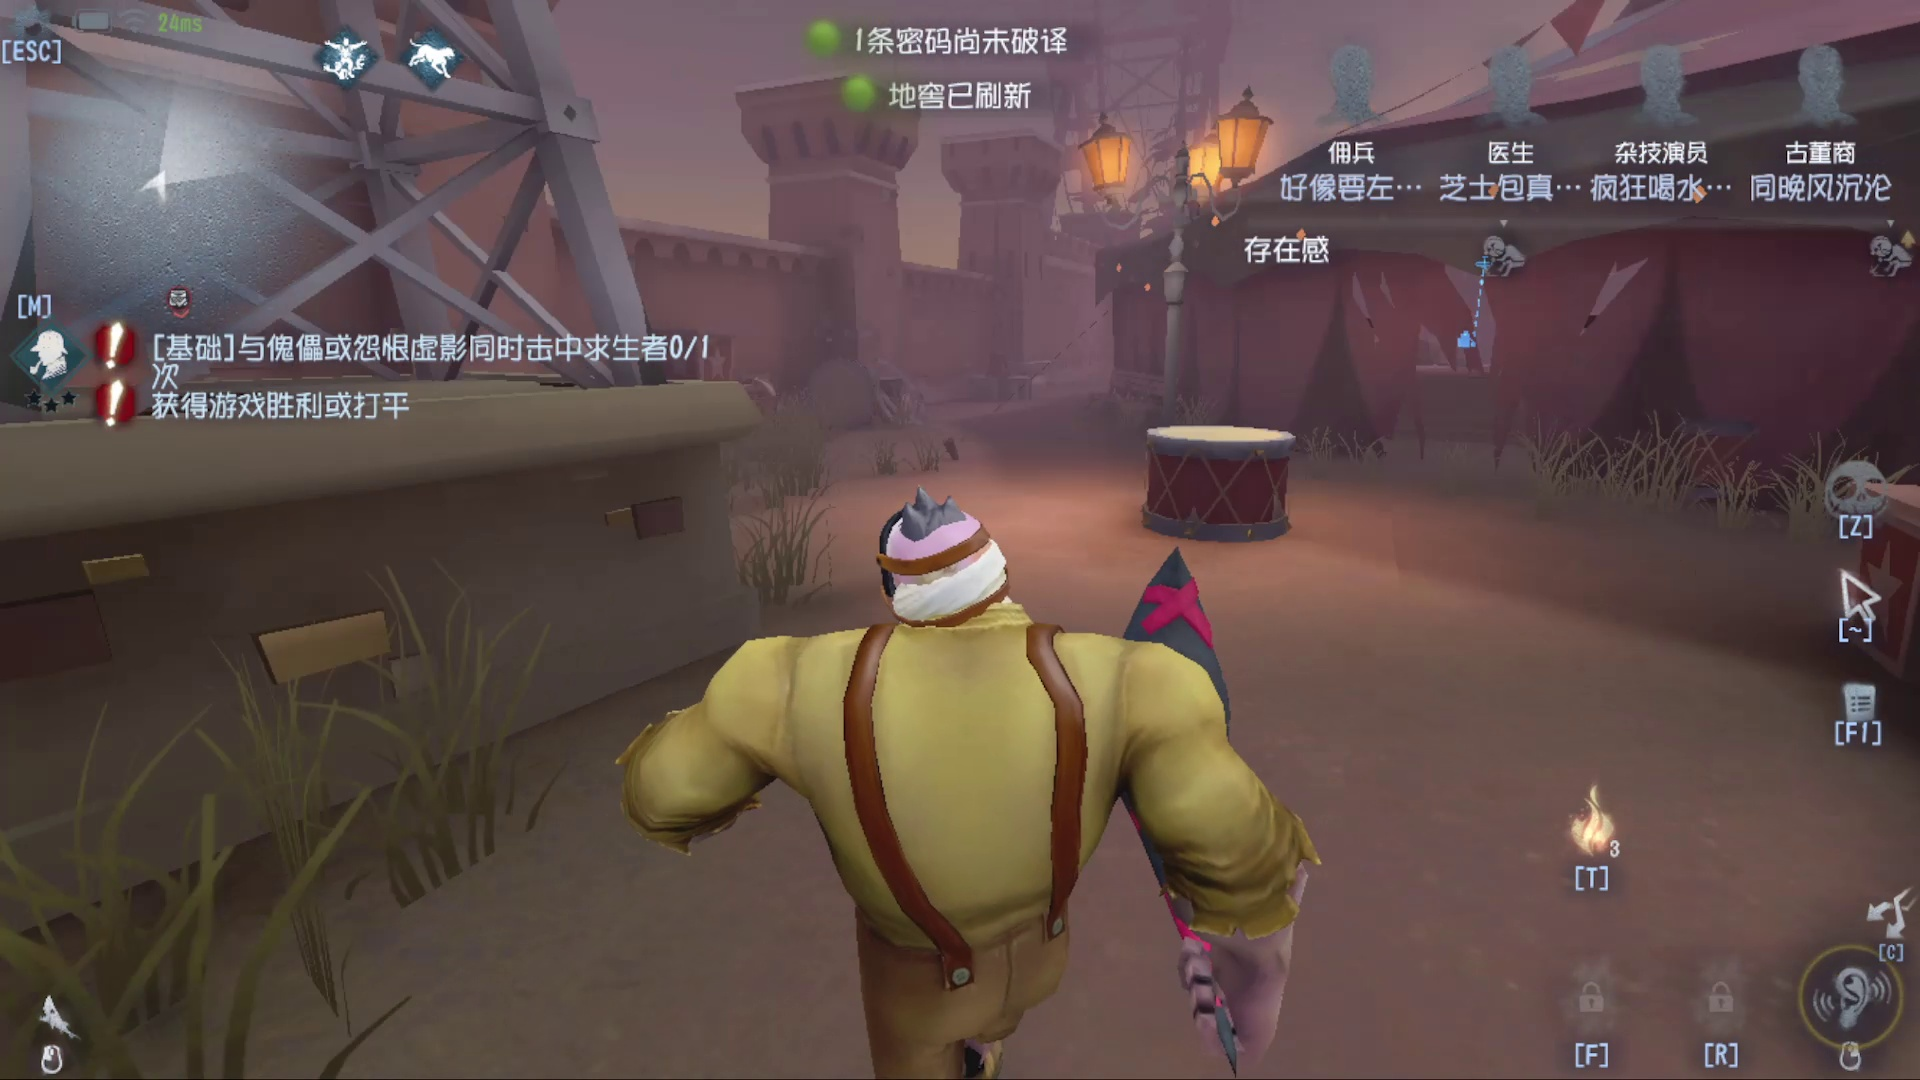密码机: (1431, 233, 1513, 375)
